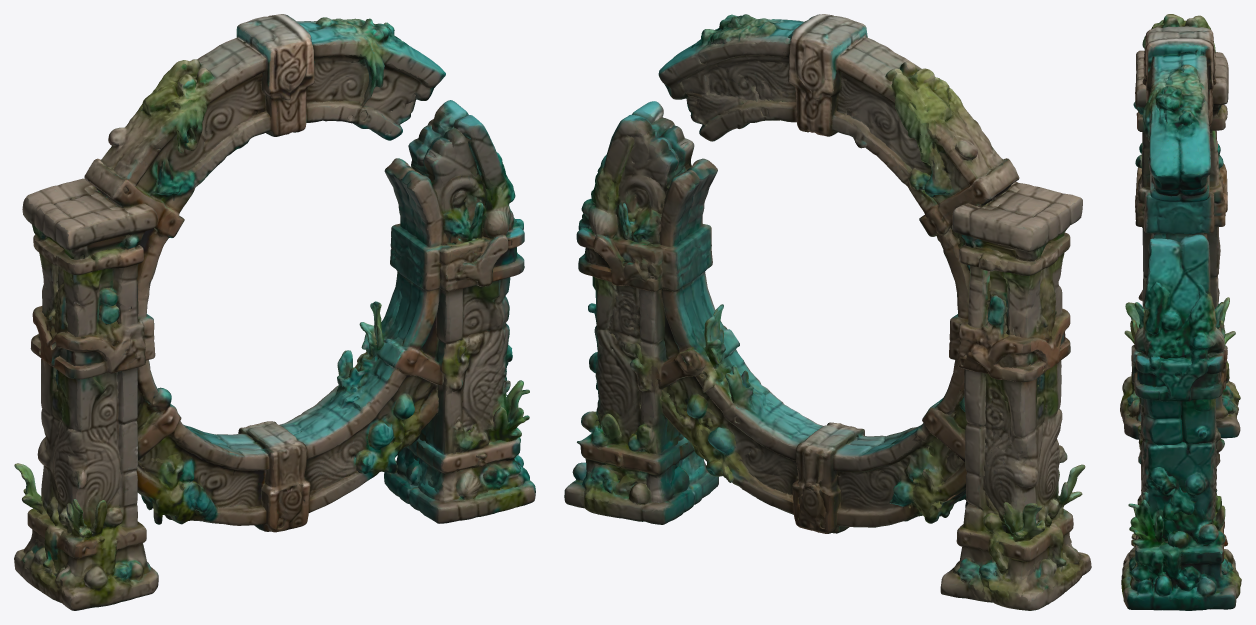
Rendered from gate.glb.
3 renders of one model, left to right at view 1: azimuth 30°, elevation 25°; view 2: azimuth 150°, elevation 25°; view 3: azimuth 270°, elevation 25°, orthographic. The views are drawn at different scales.
Parts seen in each view (by area): view 1: geometry_0; view 2: geometry_0; view 3: geometry_0.
Boxes of the visible parts, bbox=[...] form: geometry_0: bbox=[14, 14, 535, 610]; geometry_0: bbox=[564, 14, 1091, 610]; geometry_0: bbox=[1120, 14, 1241, 610].
Bounding box in the file's own units: 1.46 × 1.5 × 0.3498.
Materials: 1 (1 with a texture image).
